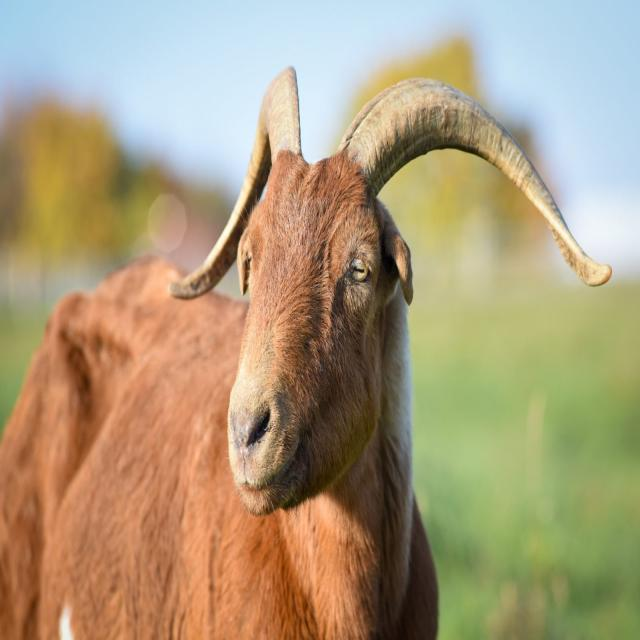Goat: (13, 72, 556, 640)
